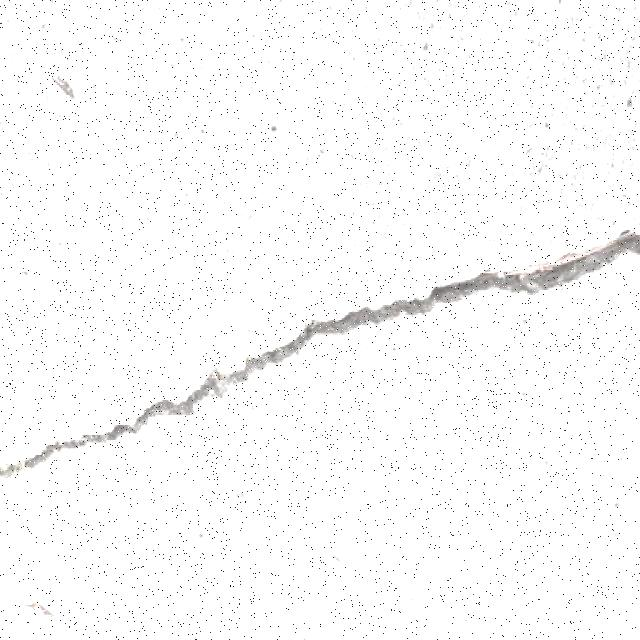crack: (1, 227, 638, 479)
